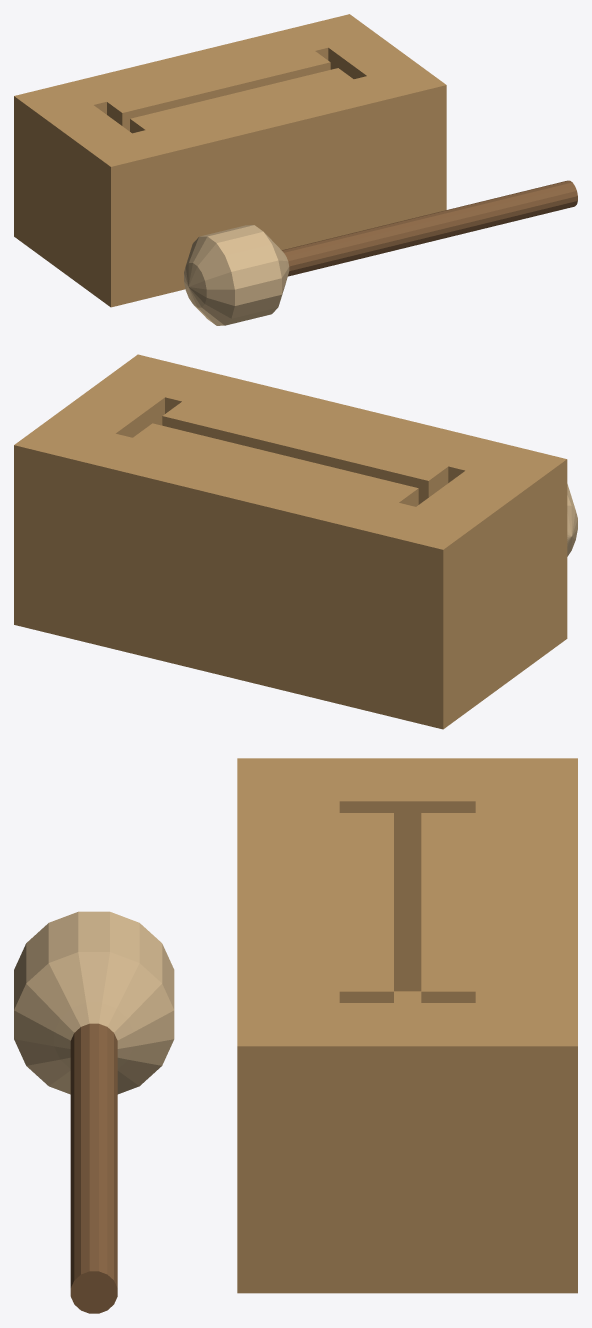
3 renders of one model, top to bottom at view 1: azimuth 30°, elevation 25°; view 2: azimuth 150°, elevation 25°; view 3: azimuth 270°, elevation 25°, orthographic. The views are drawn at different scales.
Visible parts, largest first — view 1: WholeHollowSlitWoodblock, WholeBarrelHeadAndShaftMallet; view 2: WholeHollowSlitWoodblock, WholeBarrelHeadAndShaftMallet; view 3: WholeHollowSlitWoodblock, WholeBarrelHeadAndShaftMallet.
Boxes of the visible parts, <box> form: WholeHollowSlitWoodblock: <box>14,14,446,307</box>; WholeBarrelHeadAndShaftMallet: <box>184,180,577,325</box>; WholeHollowSlitWoodblock: <box>14,354,567,729</box>; WholeBarrelHeadAndShaftMallet: <box>567,484,577,556</box>; WholeHollowSlitWoodblock: <box>237,758,577,1293</box>; WholeBarrelHeadAndShaftMallet: <box>14,911,174,1313</box>.
Size of the model in its own units: 0.125 by 0.04 by 0.0828.
